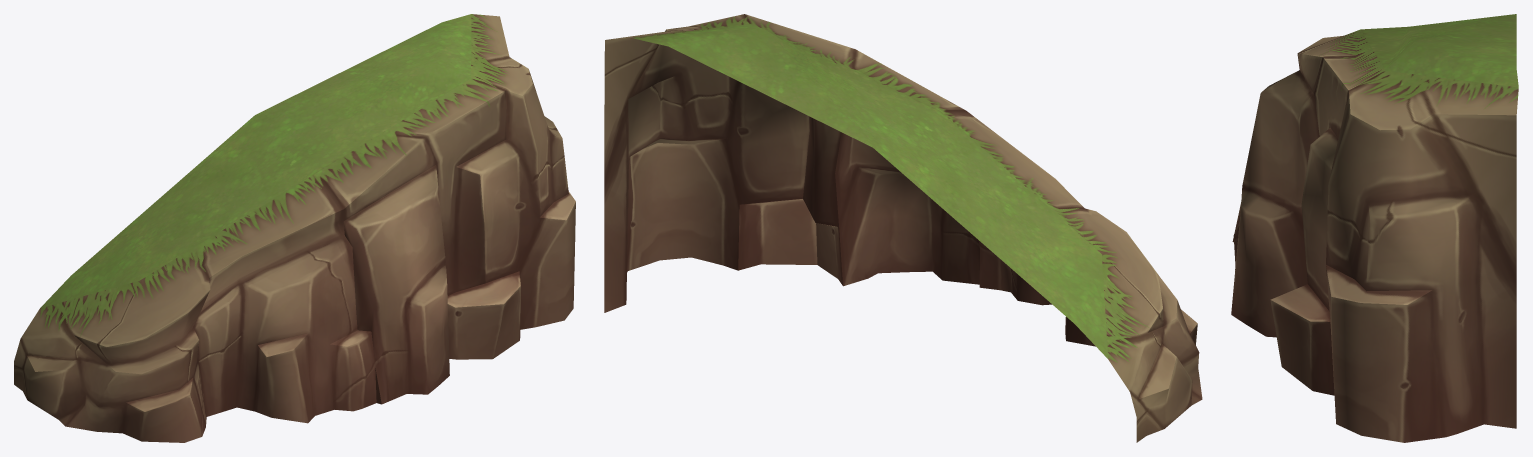
Rendered from Cliff-Hill #1.FBX.
The picture shows the model from 3 angles, left to right: view 1: azimuth 30°, elevation 25°; view 2: azimuth 150°, elevation 25°; view 3: azimuth 270°, elevation 25°; orthographic projection. The views are drawn at different scales.
Visible parts, largest first — view 1: Cliff-Hill #1; view 2: Cliff-Hill #1; view 3: Cliff-Hill #1.
Boxes of the visible parts, bbox=[...] form: Cliff-Hill #1: bbox=[14, 14, 575, 442]; Cliff-Hill #1: bbox=[604, 14, 1202, 442]; Cliff-Hill #1: bbox=[1231, 14, 1518, 442].
Size of the model in its own units: 689 by 330 by 265.
Materials: 1 (1 with a texture image).
